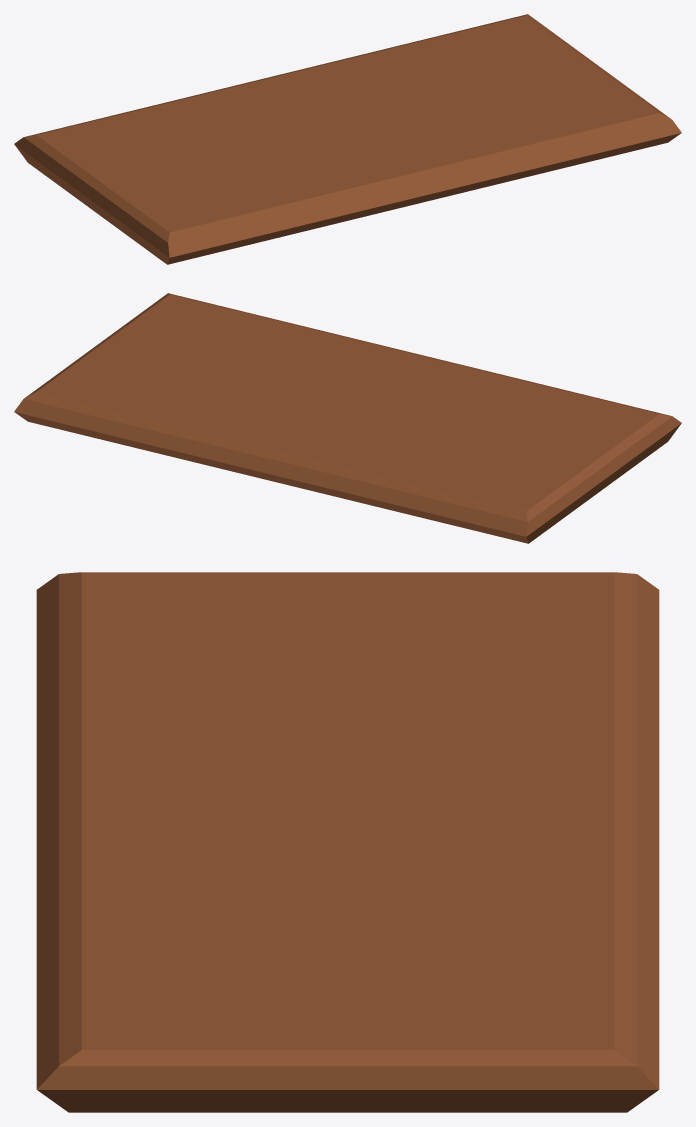
File: Carpet C.glb
3 views of the same model, one above another, from view 1: azimuth 30°, elevation 25°; view 2: azimuth 150°, elevation 25°; view 3: azimuth 270°, elevation 25° (orthographic). The views are drawn at different scales.
Visible parts, largest first — view 1: Carpet C; view 2: Carpet C; view 3: Carpet C.
Part boxes in pixels (left/top/right/bottom): Carpet C: left=14, top=14, right=681, bottom=264; Carpet C: left=14, top=293, right=681, bottom=543; Carpet C: left=36, top=572, right=659, bottom=1112.
Size of the model in its own units: 4.88 by 0.2609 by 2.57.
